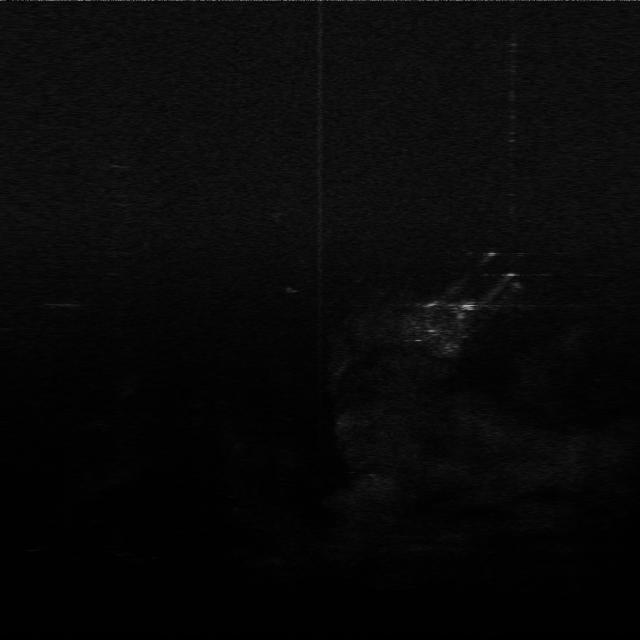rov: (456, 296, 480, 314)
